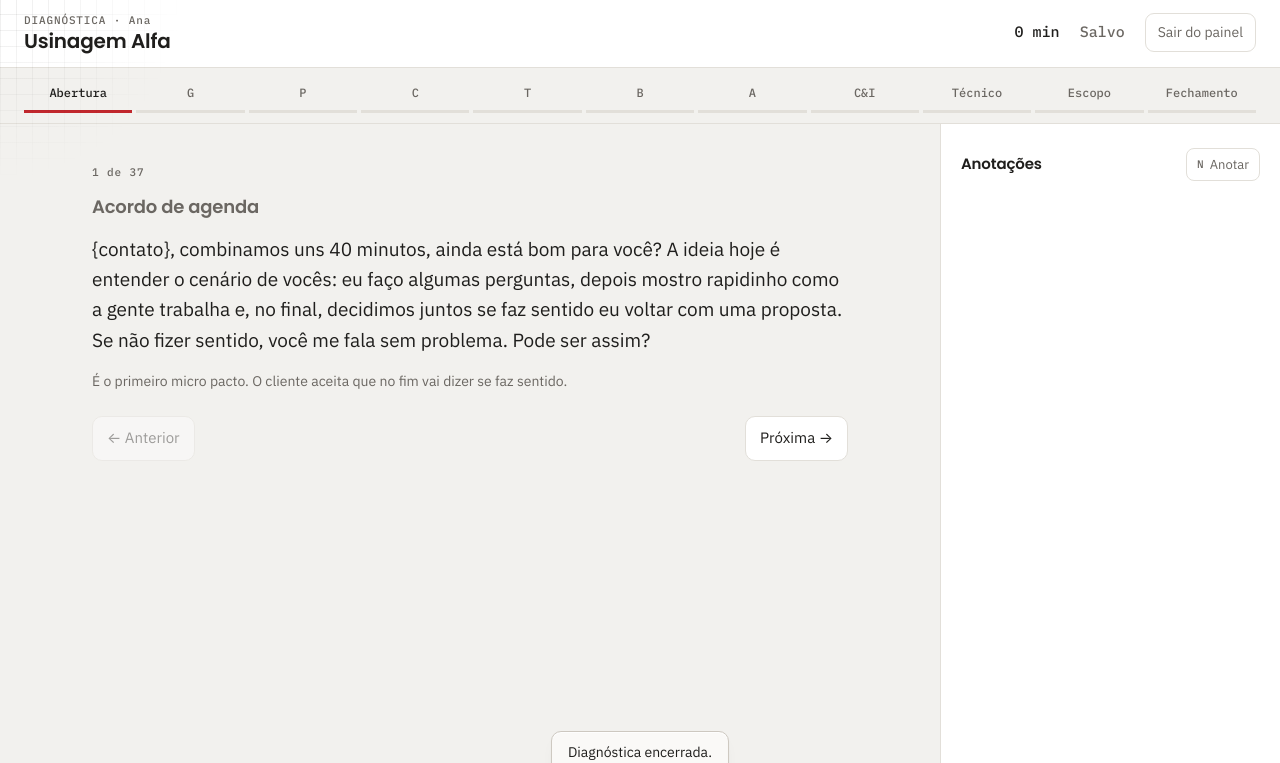
encerrar não passa enquanto há respostas sem salvar no servidor
Press Arrowright Arrowright
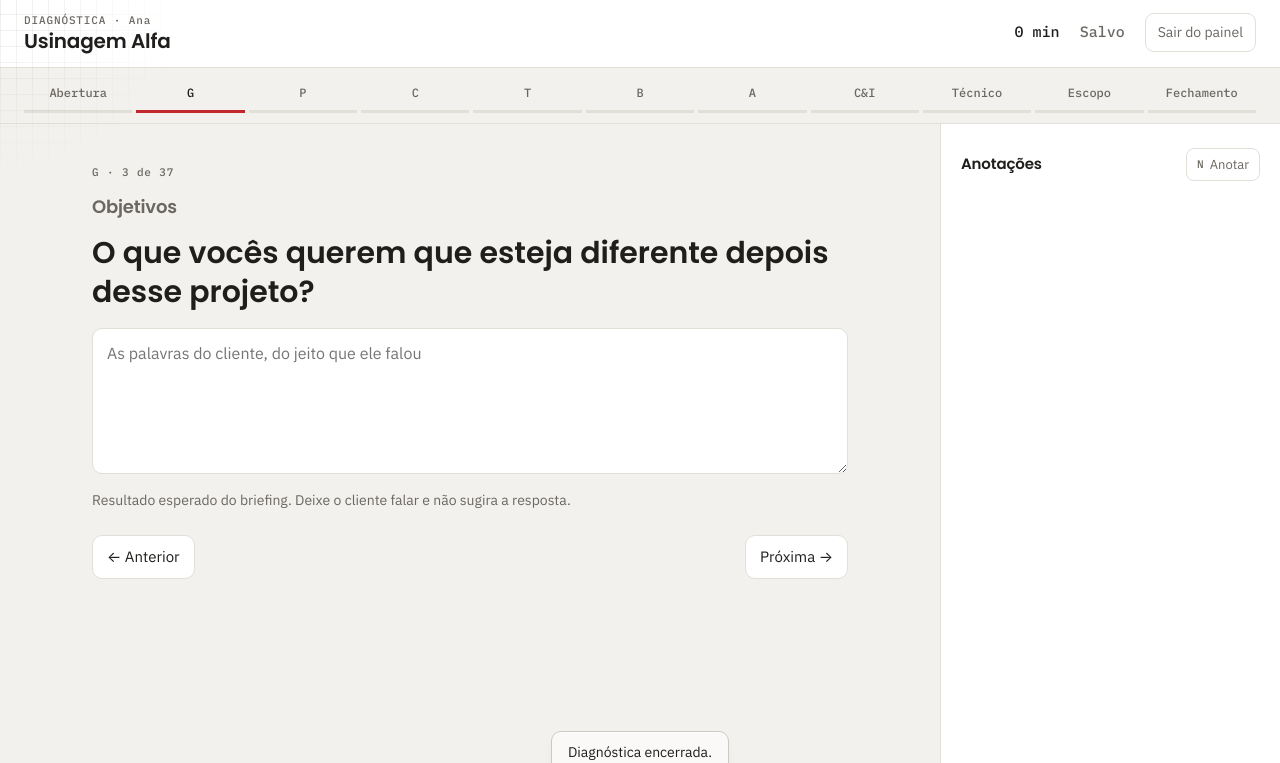
Type "Chegar a 26 °C" into the text box named "Resposta" at point(470, 401), box [92,328,848,474]
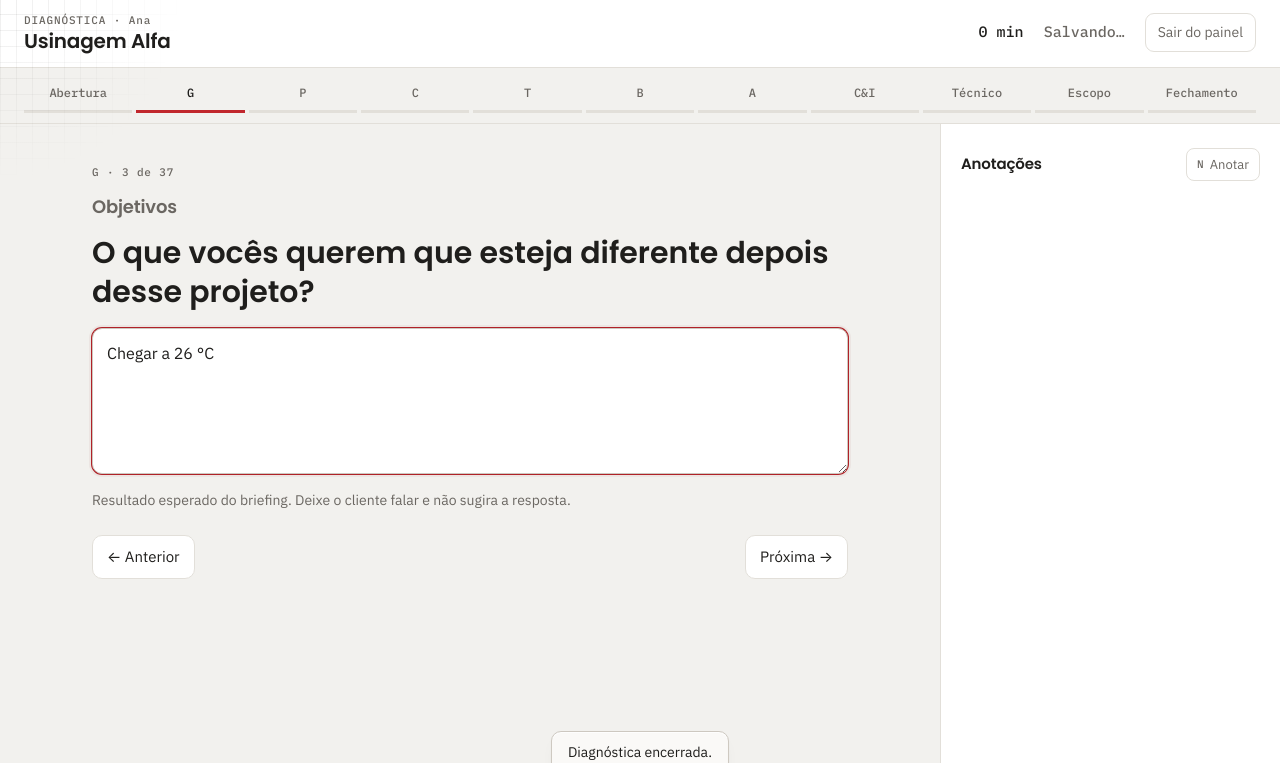
Click the button with aria-label "Ir para Fechamento" at point(1202, 95), box [1148,78,1256,112]
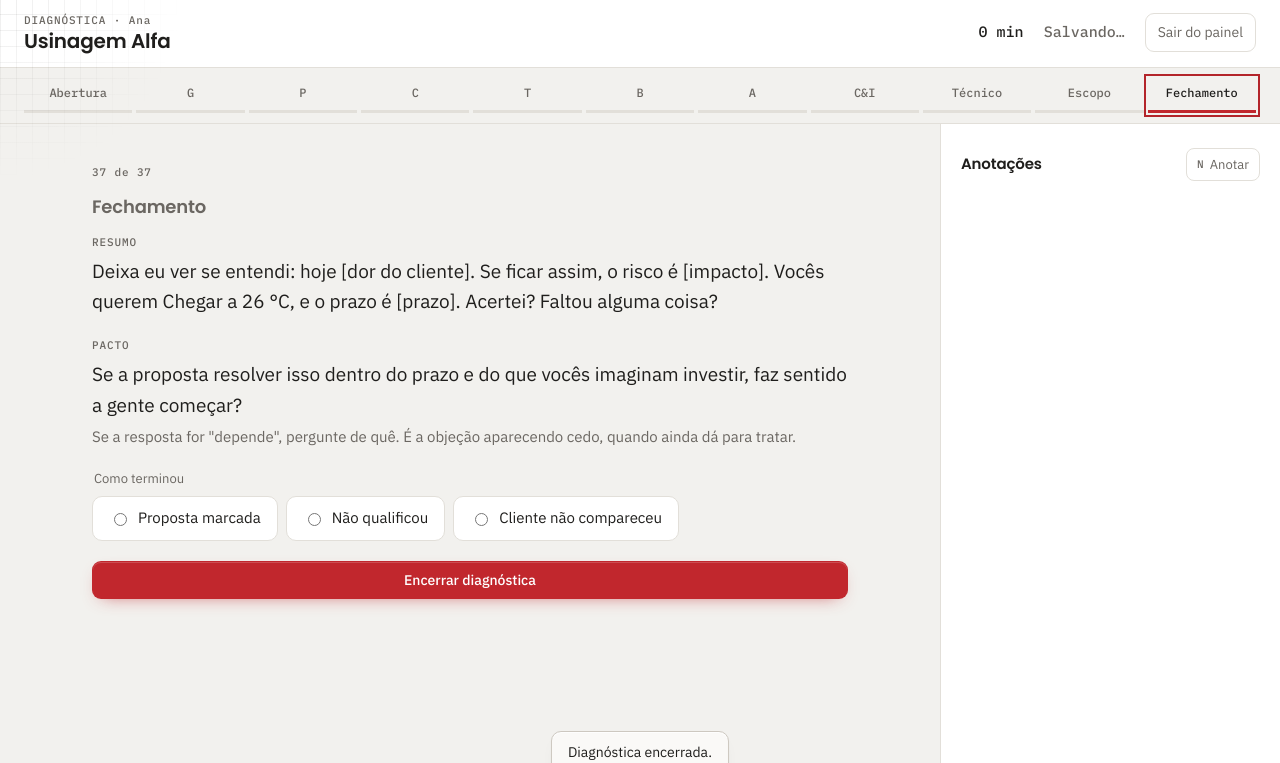
Click the radio button labelled "Não qualificou" at point(314, 520), box [308,513,321,526]
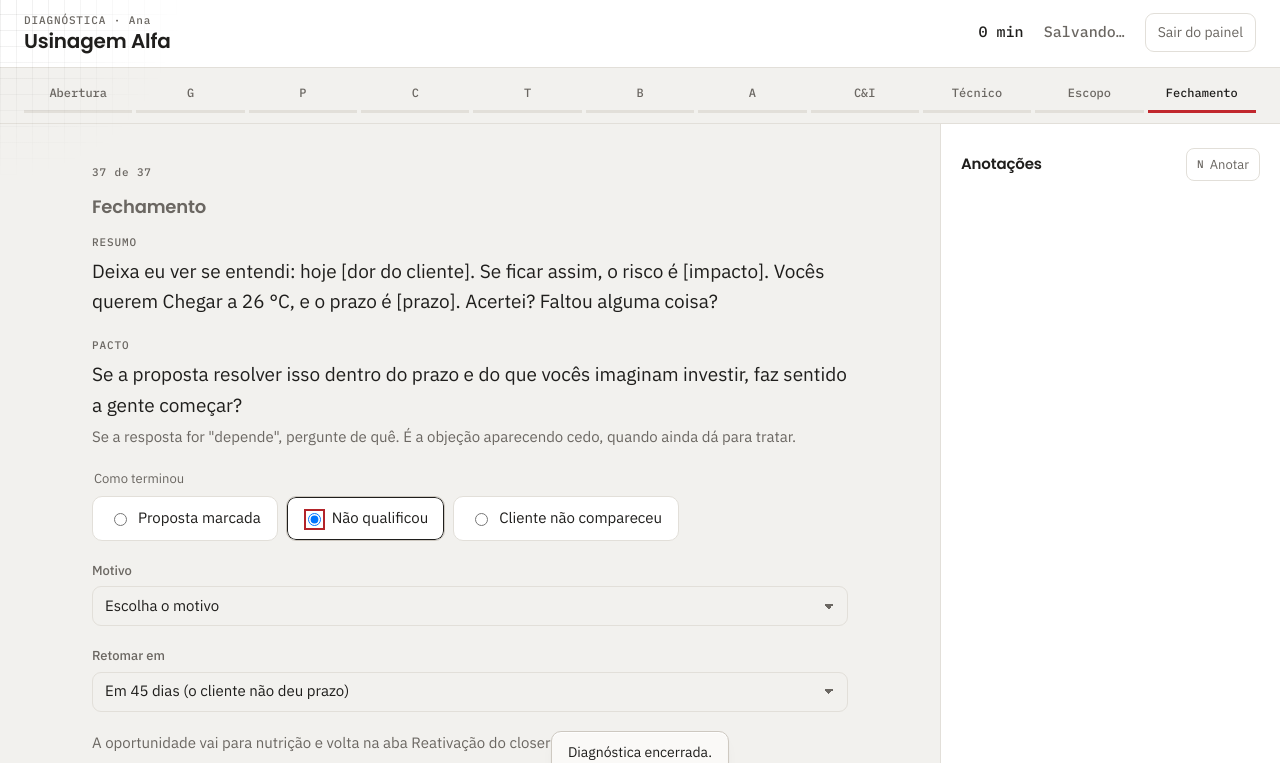
Select "Sem orçamento" in the dropdown labelled "Motivo" at point(470, 606), box [92,586,848,626]
(page scrolled)
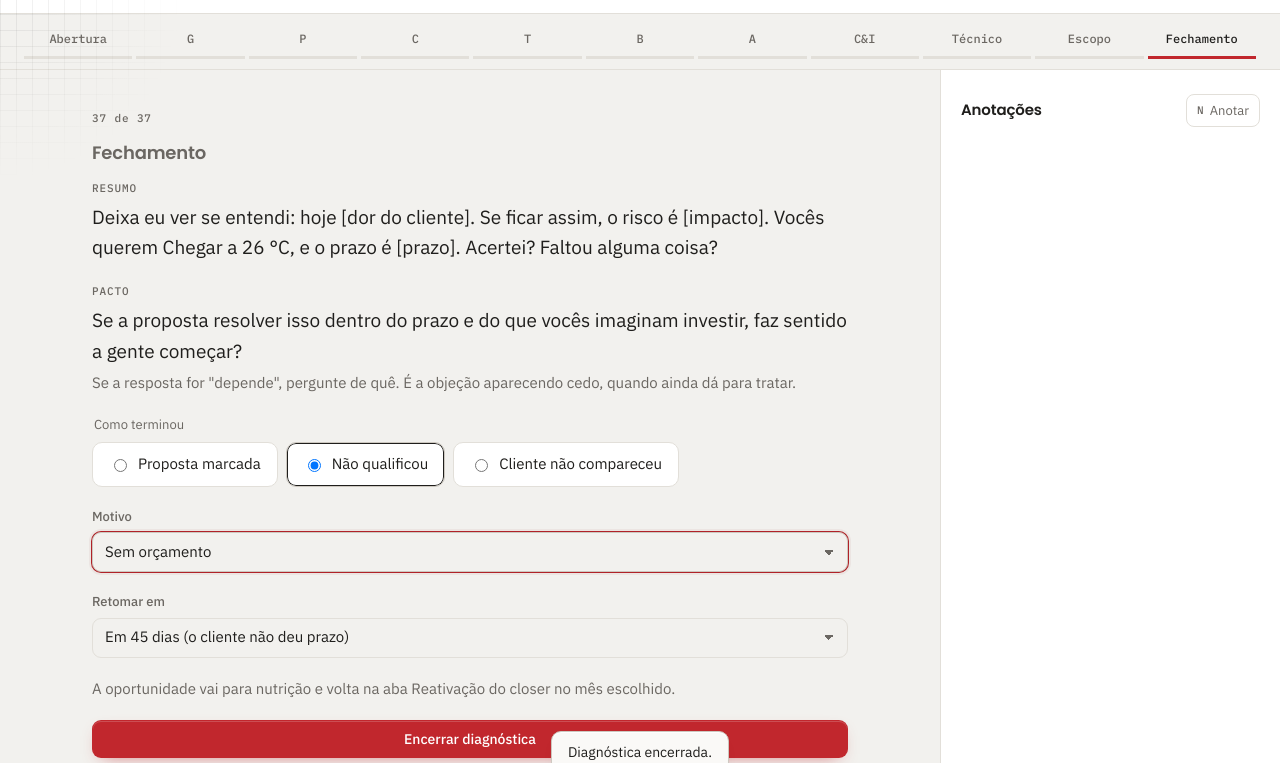
Click the button "Encerrar diagnóstica" at point(470, 739), box [92,720,848,758]
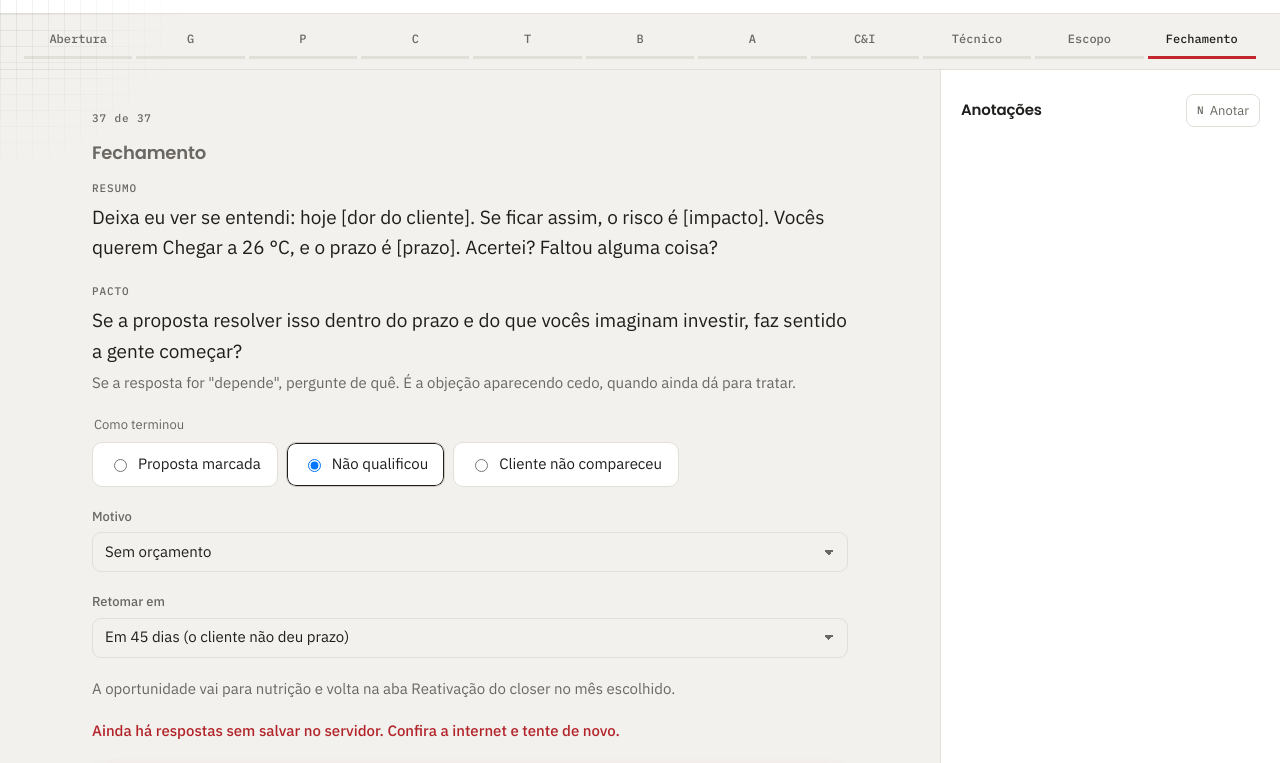
Expected: the message reads "Ainda há respostas sem salvar no servidor. Confira a internet e tente de novo.", [92,721,620,740]
